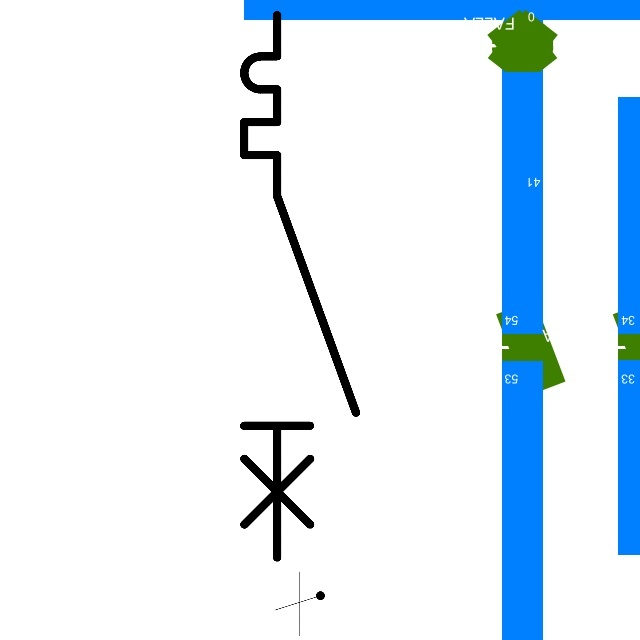interruptor_termomagnetico: (230, 1, 369, 571)
